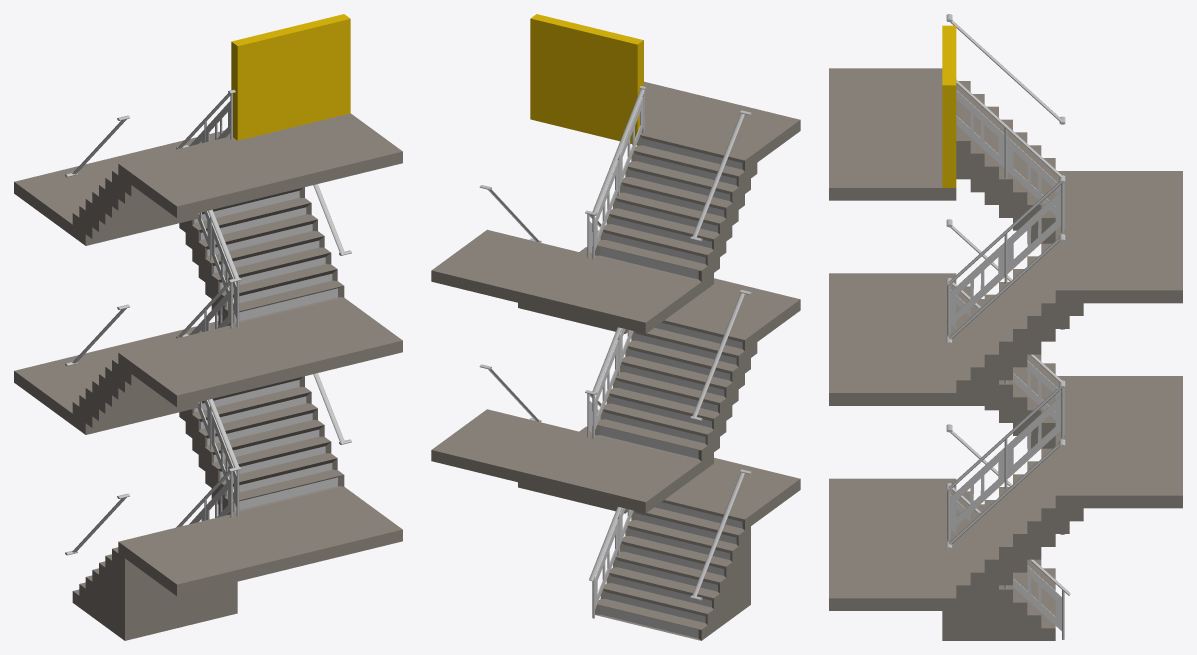
Rendered from steentrap.fbx.
3 views of the same model, side by side, from view 1: azimuth 30°, elevation 25°; view 2: azimuth 150°, elevation 25°; view 3: azimuth 270°, elevation 25° (orthographic). The views are drawn at different scales.
Parts seen in each view (by area): view 1: pCube6 (×2), pCube33, pCube4, pCube14, pCube22, pCube35, pCube1, pCube27, pCube25, pCube9, pCube32, pCube18 (+4 smaller); view 2: pCube1, pCube6 (×2), pCube27, pCube9, pCube25, pCube35, pCube33, pCube4, pCube14, pCube37, pCube30, pCube13 (+11 smaller); view 3: pCube14, pCube33, pCube4, pCube9, pCube25, pCube6 (×2), pCube22, pCube27, pCube1, pCube35, pCube8 (×2), pCube23 (+12 smaller).
Boxes of the visible parts, x1=… form: pCube6 (×2): x1=72, y1=325, x2=344, y2=513; pCube33: x1=125, y1=113, x2=402, y2=218; pCube4: x1=125, y1=491, x2=402, y2=596; pCube14: x1=125, y1=302, x2=402, y2=407; pCube22: x1=179, y1=187, x2=344, y2=324; pCube35: x1=231, y1=14, x2=350, y2=140; pCube1: x1=72, y1=514, x2=237, y2=640; pCube27: x1=72, y1=136, x2=237, y2=238; pCube25: x1=14, y1=130, x2=230, y2=231; pCube9: x1=14, y1=321, x2=218, y2=420; pCube32: x1=79, y1=213, x2=198, y2=245; pCube18: x1=79, y1=402, x2=198, y2=434; pCube1: x1=595, y1=495, x2=750, y2=640; pCube6 (×2): x1=481, y1=316, x2=750, y2=461; pCube27: x1=595, y1=130, x2=750, y2=281; pCube9: x1=431, y1=414, x2=695, y2=513; pCube25: x1=431, y1=234, x2=695, y2=333; pCube35: x1=530, y1=14, x2=643, y2=133; pCube33: x1=644, y1=81, x2=800, y2=166; pCube4: x1=579, y1=426, x2=800, y2=525; pCube14: x1=579, y1=247, x2=800, y2=346; pCube37: x1=530, y1=108, x2=637, y2=145; pCube30: x1=588, y1=256, x2=701, y2=297; pCube13: x1=588, y1=435, x2=701, y2=476; pCube14: x1=829, y1=273, x2=942, y2=405; pCube33: x1=829, y1=68, x2=942, y2=200; pCube4: x1=829, y1=478, x2=942, y2=610; pCube9: x1=1069, y1=376, x2=1182, y2=508; pCube25: x1=1069, y1=171, x2=1182, y2=303; pCube6 (×2): x1=942, y1=273, x2=1069, y2=598; pCube22: x1=956, y1=230, x2=1069, y2=392; pCube27: x1=956, y1=81, x2=1055, y2=230; pCube1: x1=942, y1=478, x2=1055, y2=640; pCube35: x1=942, y1=25, x2=956, y2=187; pCube8 (×2): x1=950, y1=360, x2=1061, y2=531; pCube23: x1=1007, y1=190, x2=1061, y2=273.
Size of the model in its own units: 41.16 by 96 by 50.
